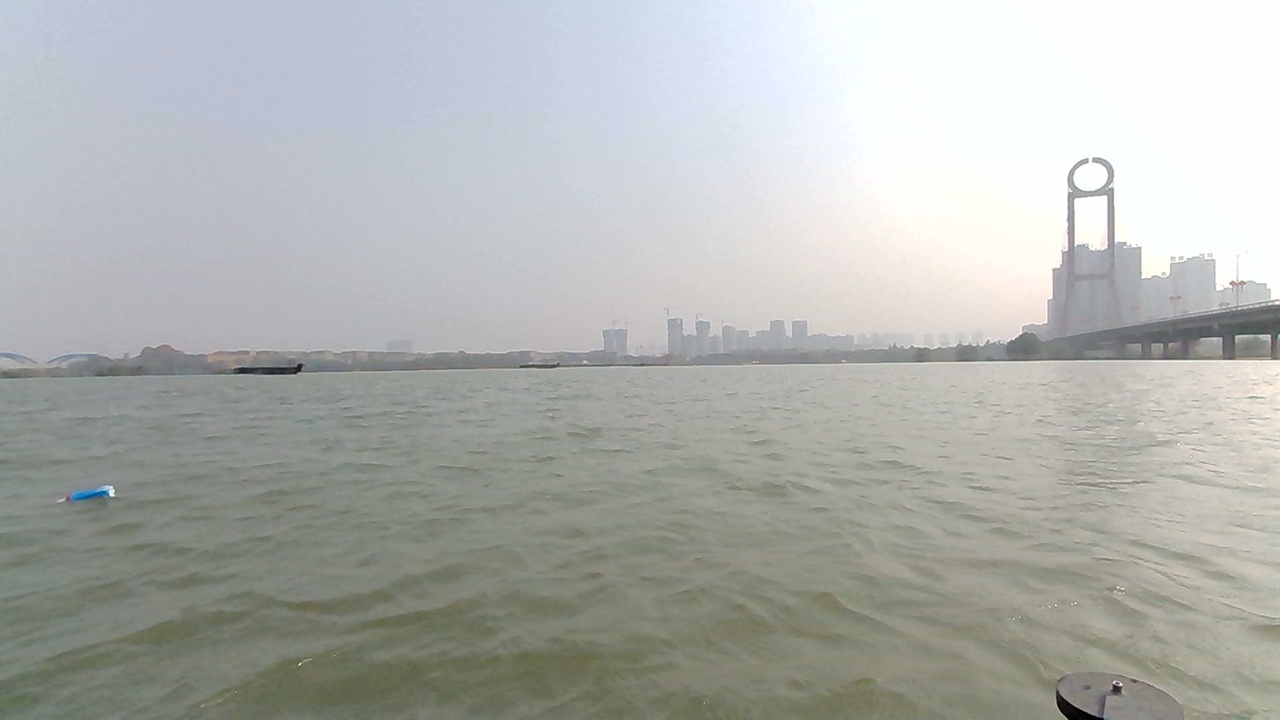bottle: (53, 480, 130, 517)
